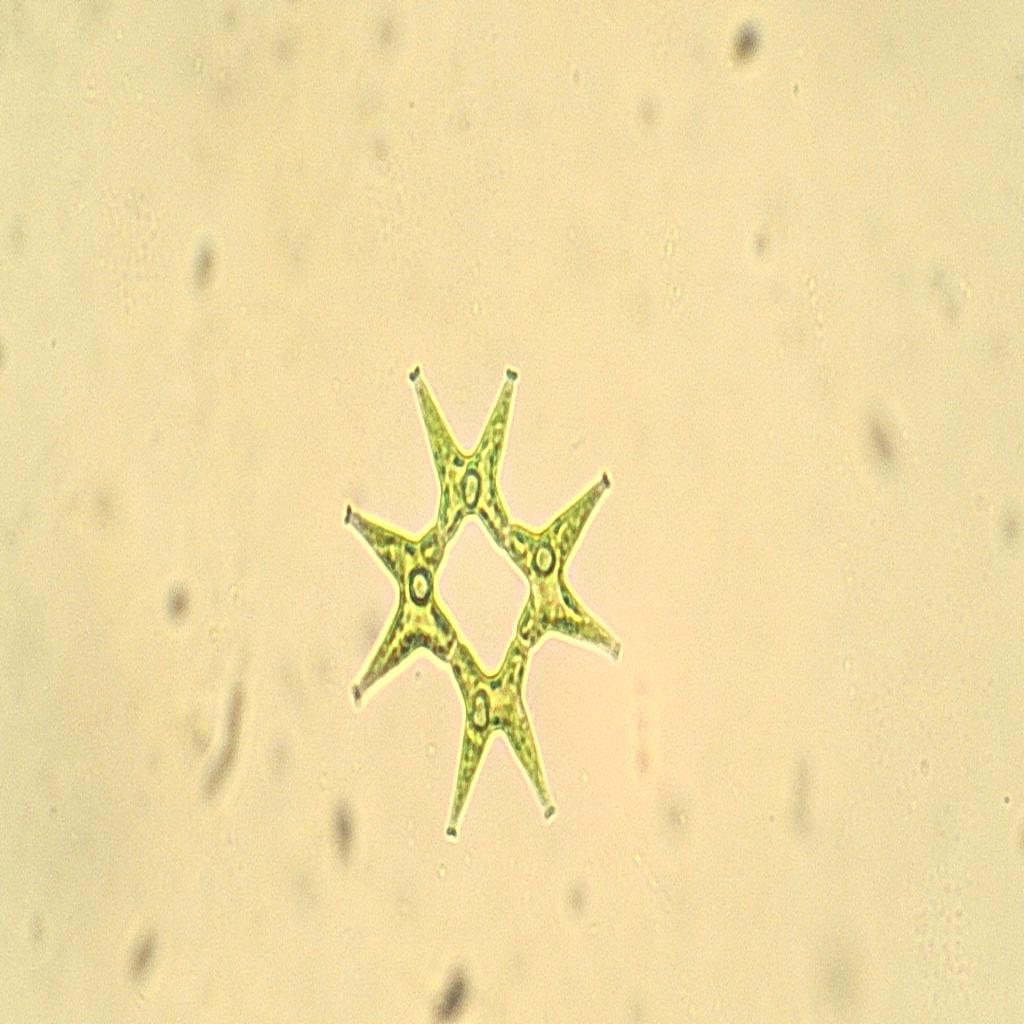Pediastrum_CO: (328, 321, 651, 872)
